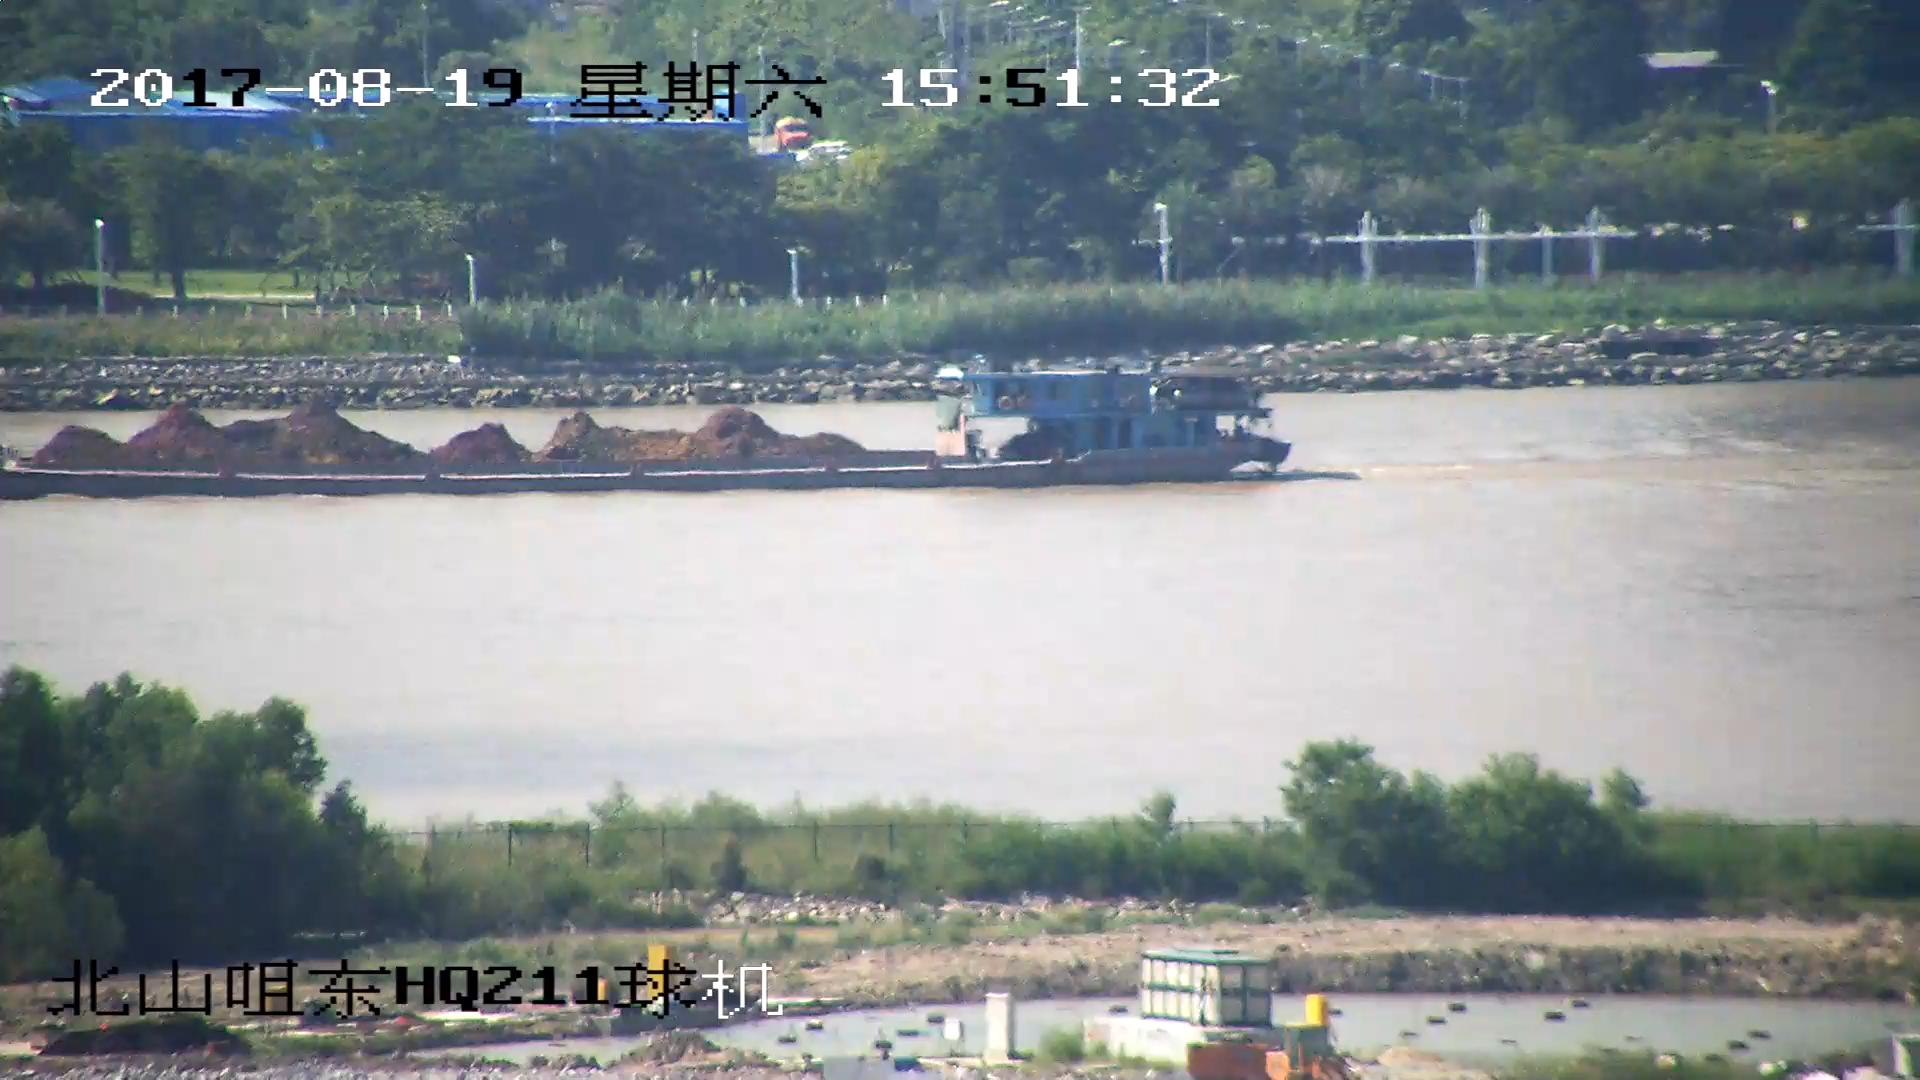ore carrier: (1, 365, 1290, 500)
